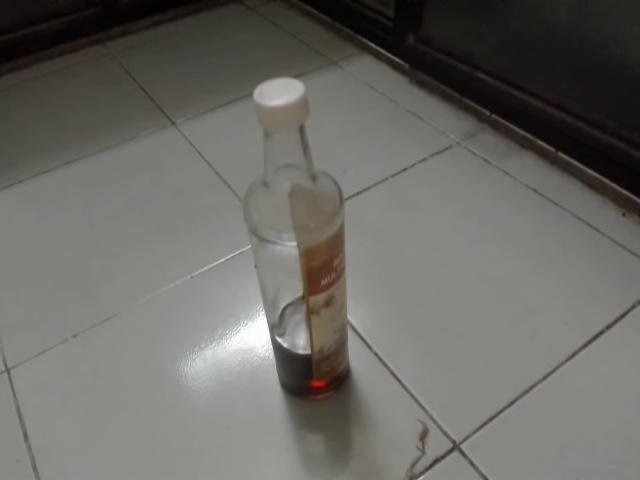botol_kaca: (233, 72, 373, 406)
